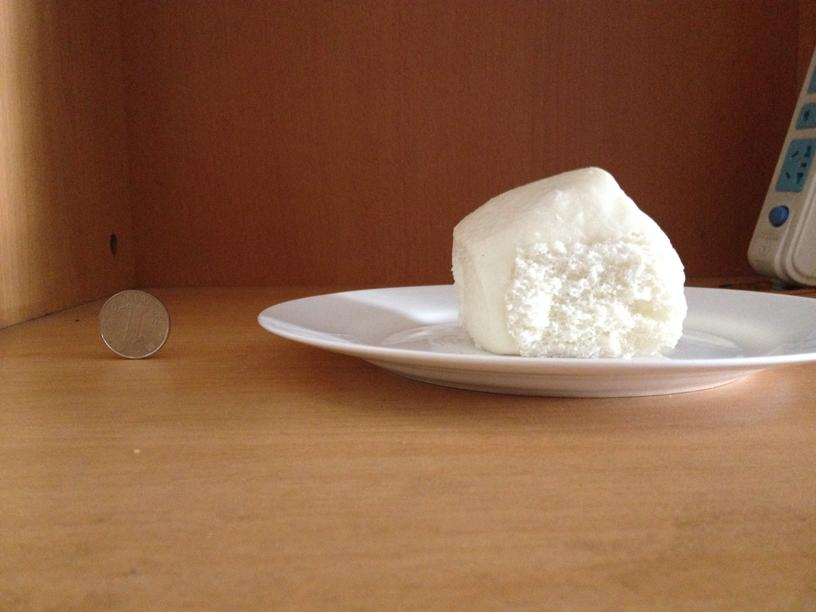bun: (442, 171, 690, 358)
coin: (94, 289, 169, 359)
